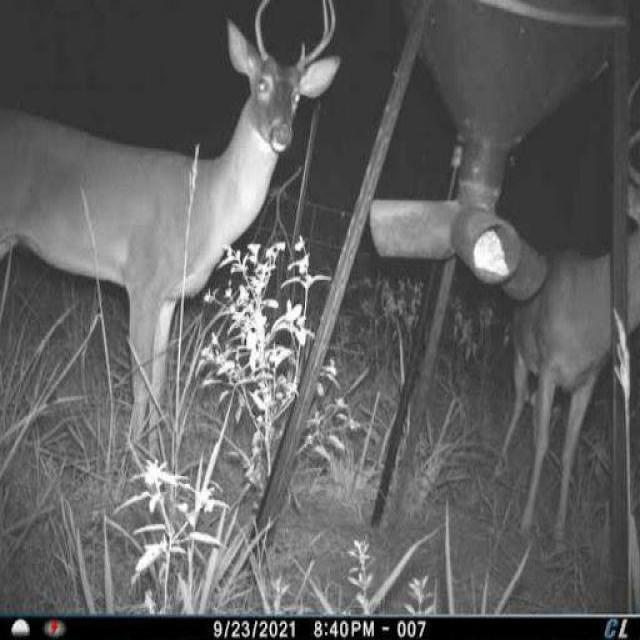deer: (0, 0, 342, 473), (515, 74, 640, 555)
